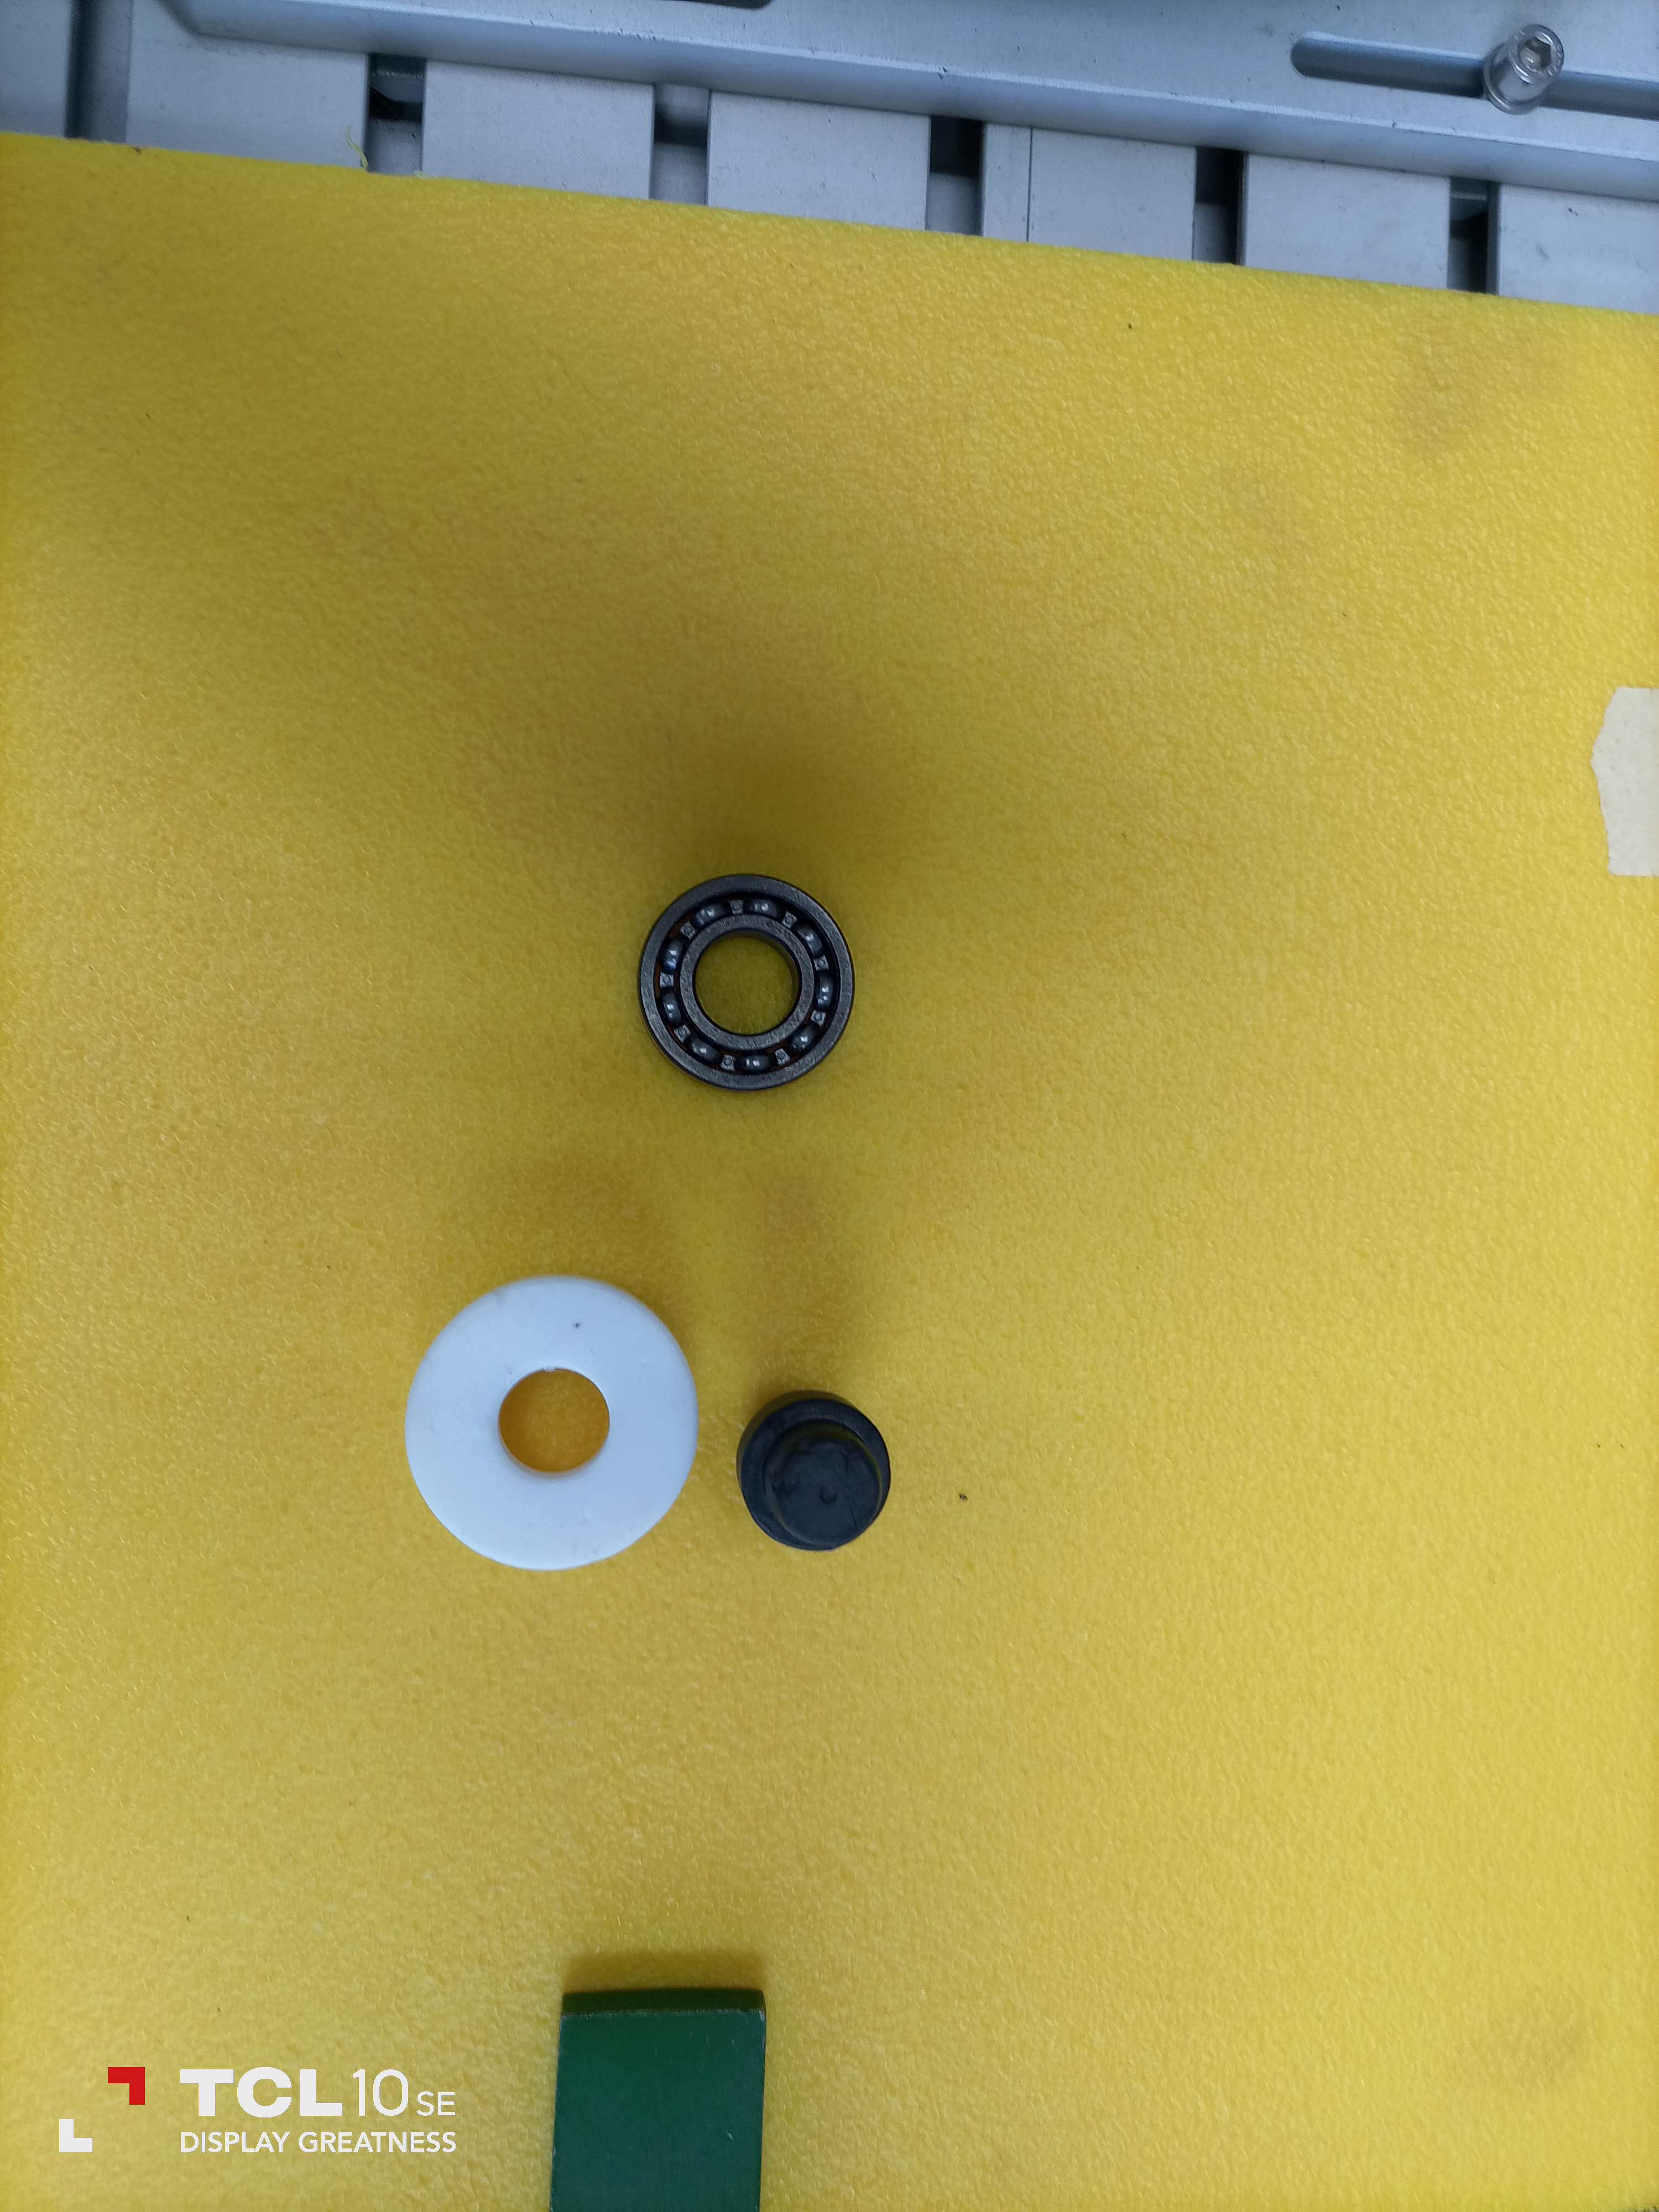Ardatza: (737, 1379, 885, 1578)
Roda: (638, 885, 870, 1103)
Tapa: (401, 1251, 694, 1571)
